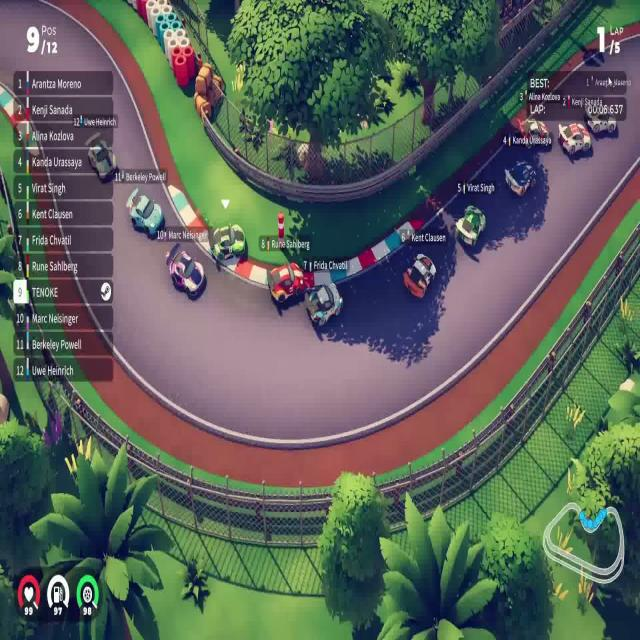car: (165, 241, 205, 300), (266, 260, 314, 306), (125, 186, 165, 238), (304, 280, 343, 328), (403, 251, 436, 300), (86, 134, 117, 182), (211, 222, 246, 263), (455, 204, 486, 248), (557, 121, 591, 158), (504, 159, 536, 198), (518, 116, 551, 147)
